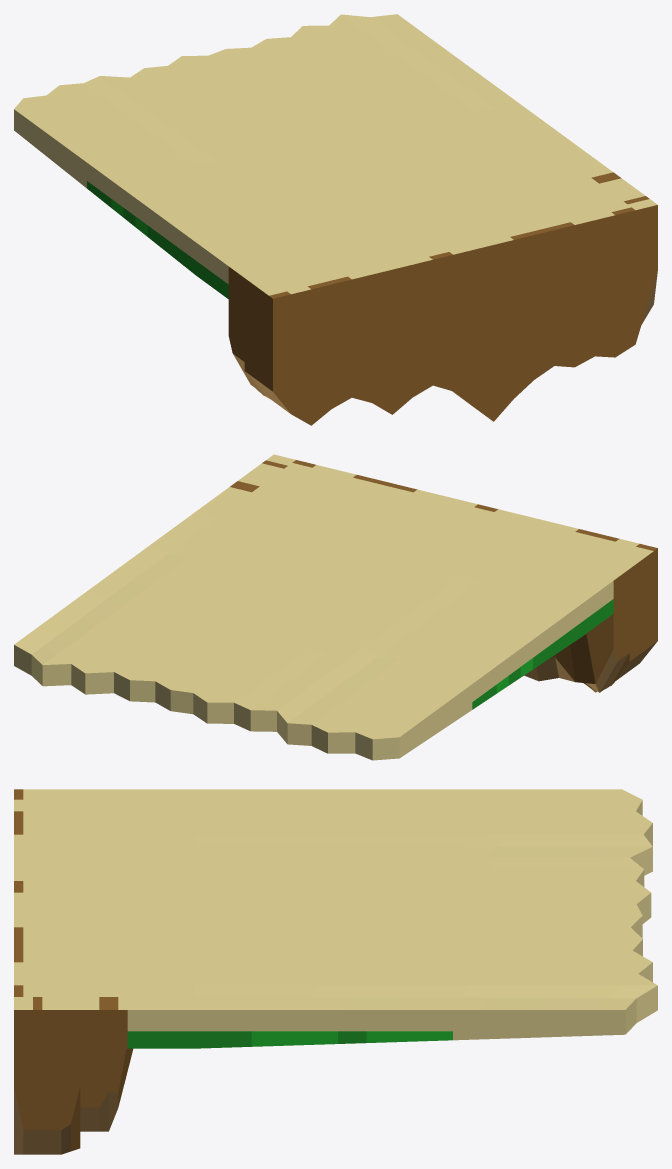
File: island2.fbx
3 views of the same model, one above another, from view 1: azimuth 30°, elevation 25°; view 2: azimuth 150°, elevation 25°; view 3: azimuth 270°, elevation 25° (orthographic). The views are drawn at different scales.
Parts seen in each view (by area): view 1: island; view 2: island; view 3: island.
Boxes of the visible parts, left/top/right/bottom form: island: left=14, top=14, right=657, bottom=425; island: left=14, top=454, right=657, bottom=760; island: left=14, top=789, right=657, bottom=1154.
Bounding box in the file's own units: 1361 × 598 × 1680.
